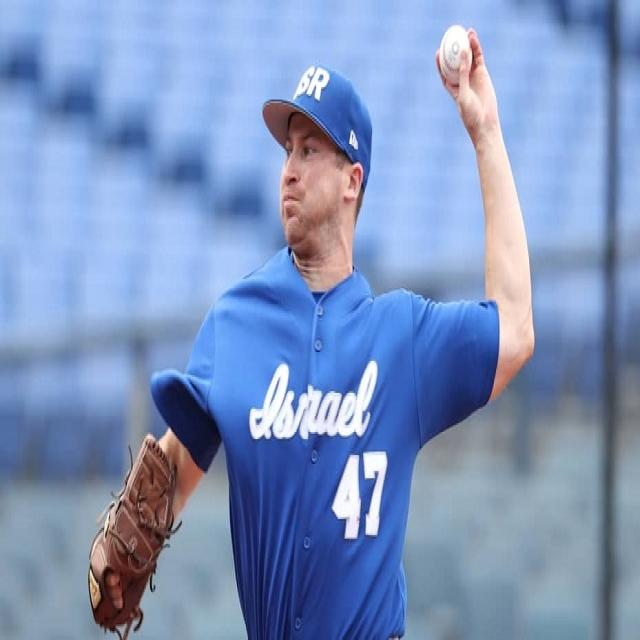no_helmet: (262, 62, 373, 189)
